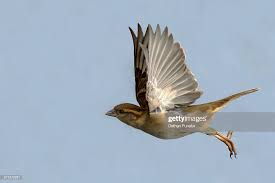hsparrow: (105, 22, 262, 159)
